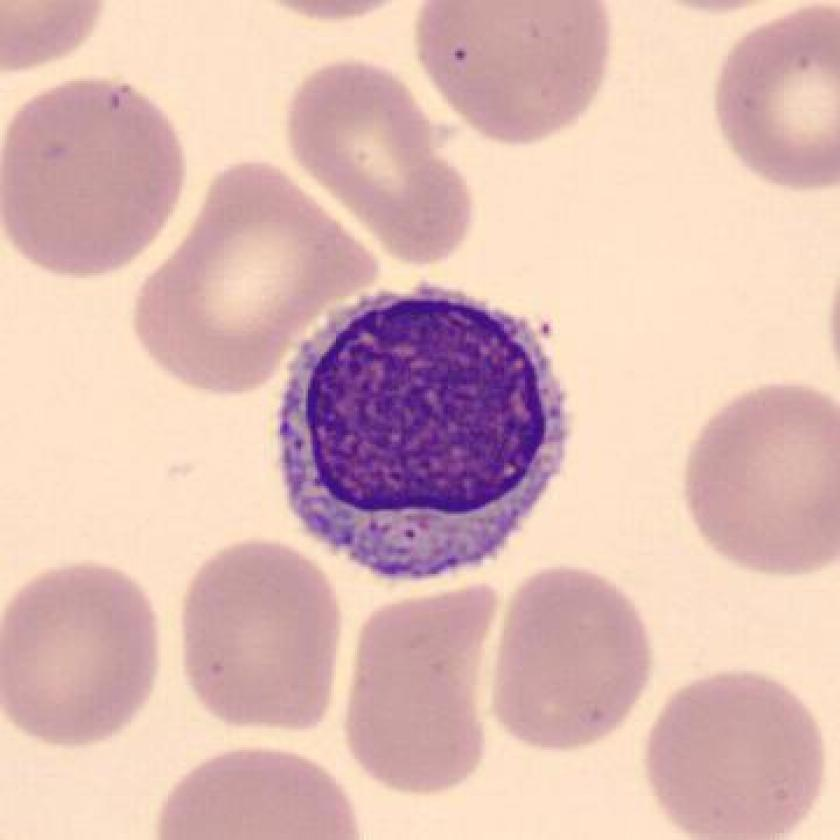lymphocyte: (267, 272, 582, 593)
